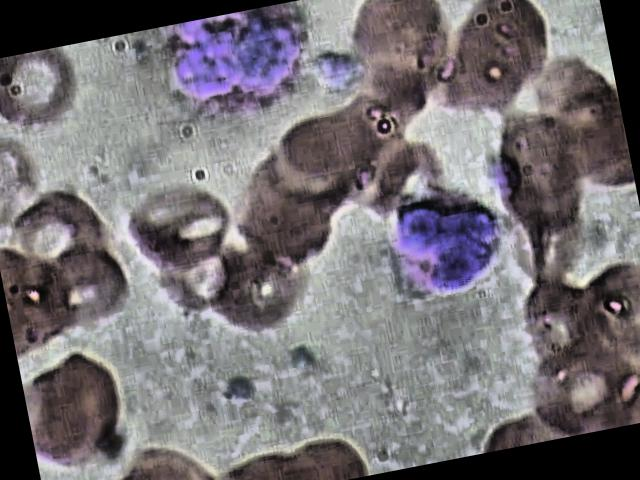Platelets: (306, 43, 371, 98), (216, 365, 262, 413), (480, 152, 524, 200), (278, 333, 322, 381)
RBC: (17, 338, 145, 480), (112, 167, 248, 289), (517, 52, 632, 191), (417, 20, 538, 135), (204, 232, 325, 347), (223, 169, 344, 284), (262, 108, 383, 223), (523, 323, 640, 440), (18, 240, 141, 346), (0, 178, 119, 285), (505, 271, 612, 382), (444, 0, 565, 92), (336, 0, 457, 87), (0, 42, 94, 146), (144, 228, 243, 319), (560, 258, 640, 368), (84, 431, 235, 480), (0, 124, 73, 223)
WBC: (363, 170, 528, 326), (159, 0, 328, 140)
